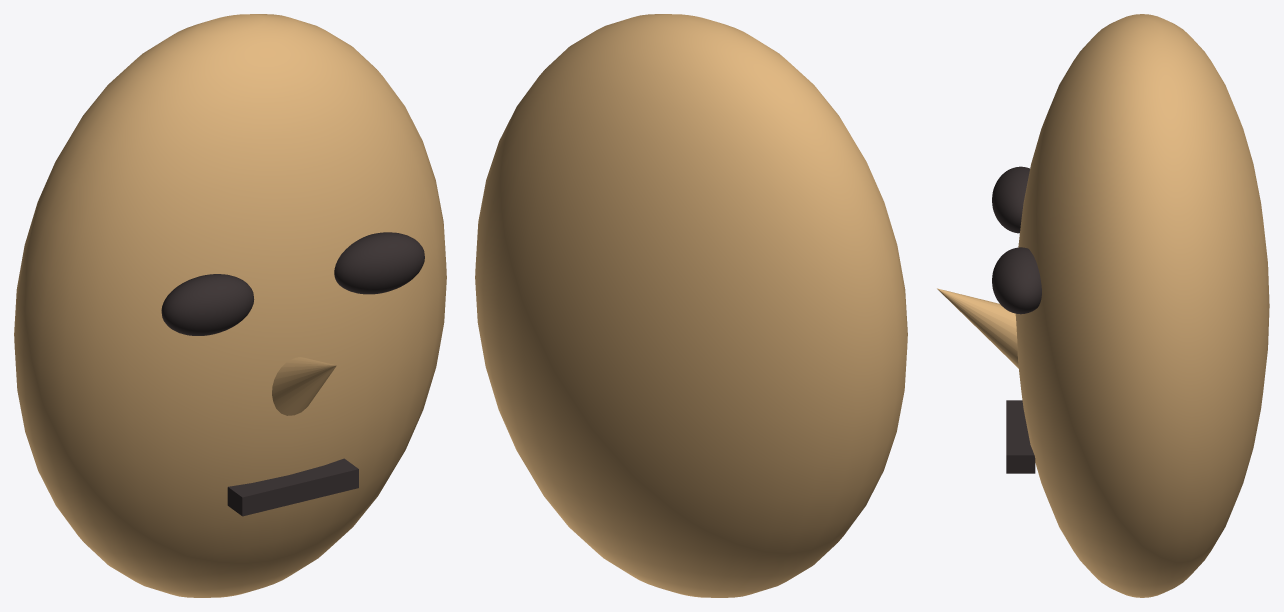
Rendered from mask.glb.
3 renders of one model, left to right at view 1: azimuth 30°, elevation 25°; view 2: azimuth 150°, elevation 25°; view 3: azimuth 270°, elevation 25°, orthographic. The views are drawn at different scales.
Size of the model in its own units: 1.6 by 2.1 by 1.15.
